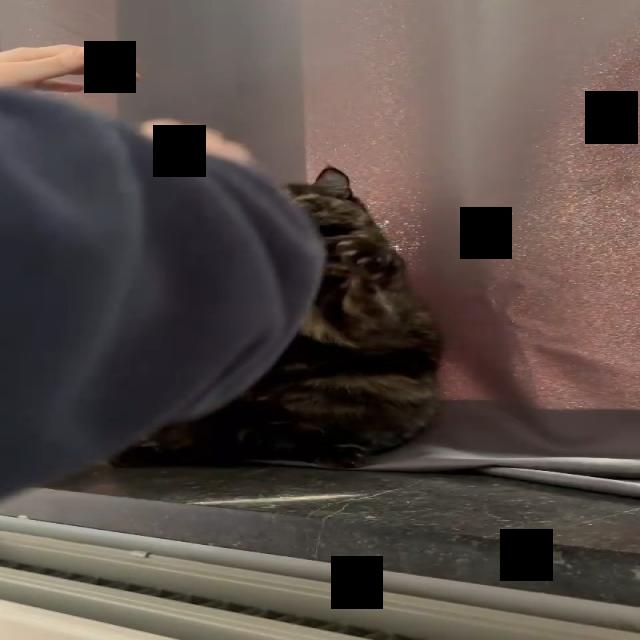authorized: (109, 164, 444, 470)
